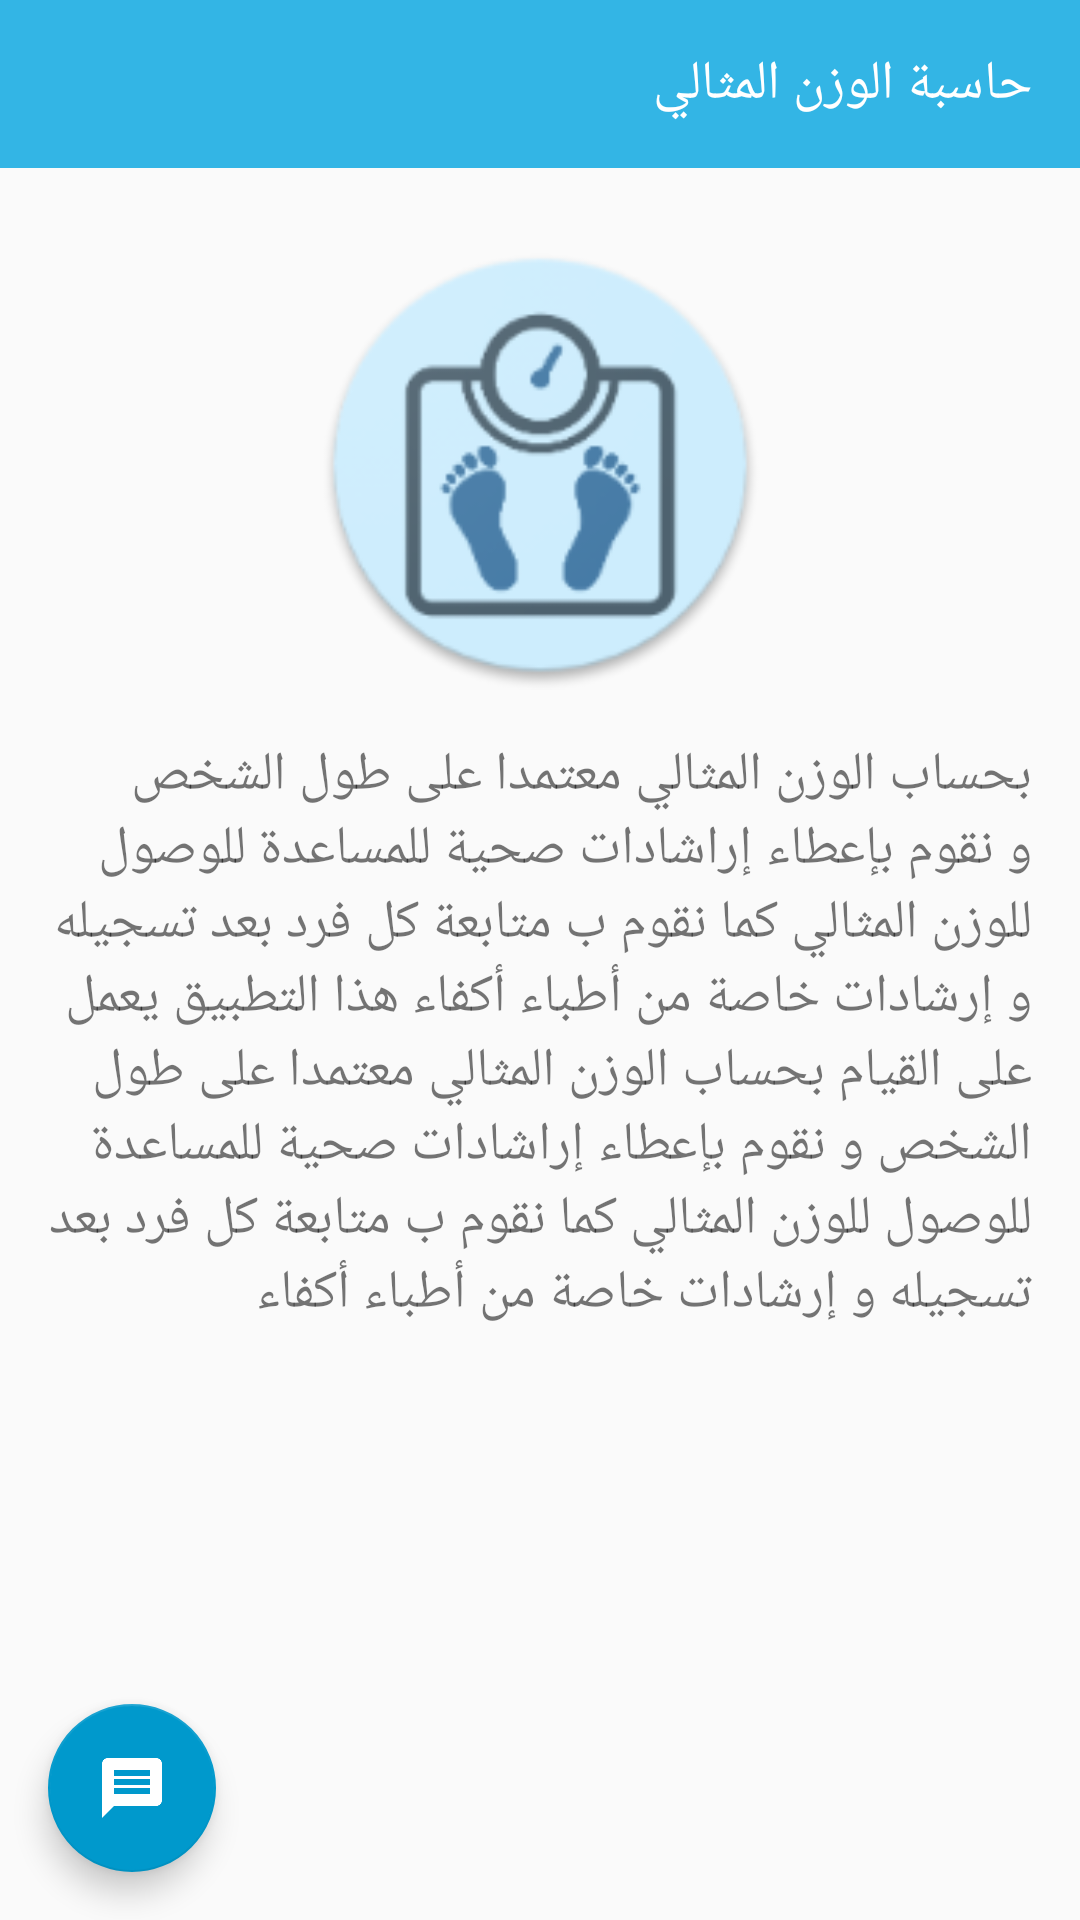

Named icons in this screenshot (1080px x 1920px) and their centers, (x,y):
message: (132,1788)
